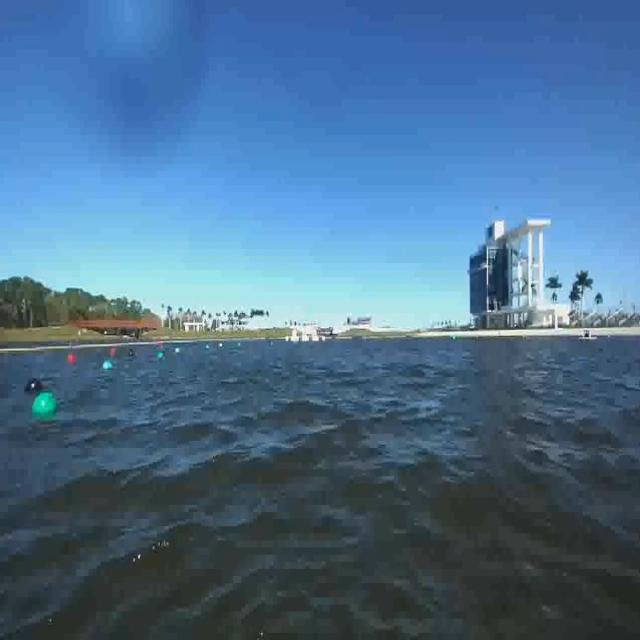black-buoy: (26, 378, 42, 394)
green-buoy: (31, 394, 56, 422)
red-buoy: (68, 350, 76, 367)
